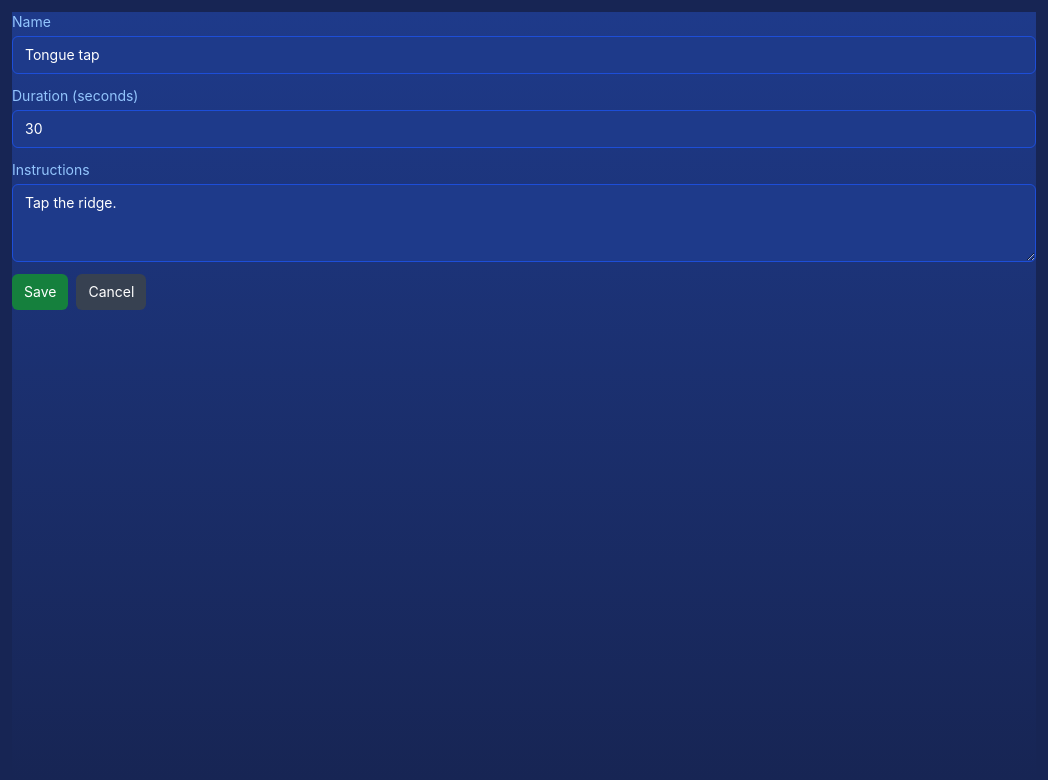
Scenario: EditExerciseForm › rejects an empty name
Clear the field labelled "Name" at (524, 55), box x1=12 y1=36 x2=1036 y2=74
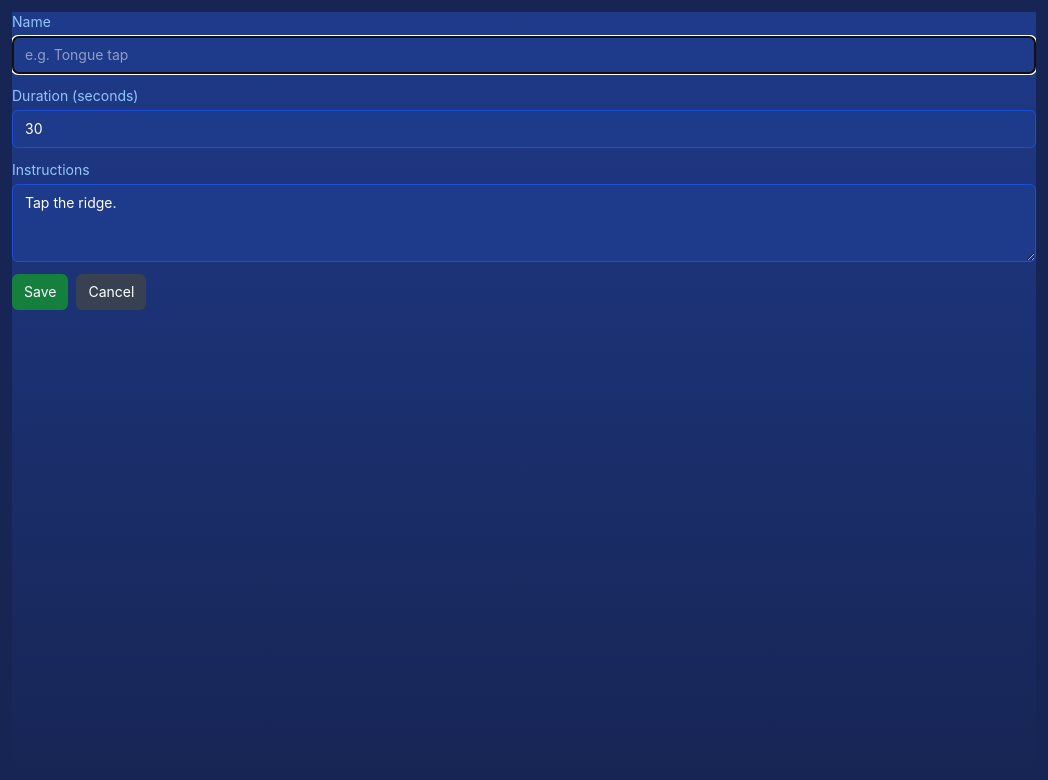
Click the button "Save" at (40, 292), box x1=12 y1=274 x2=68 y2=310
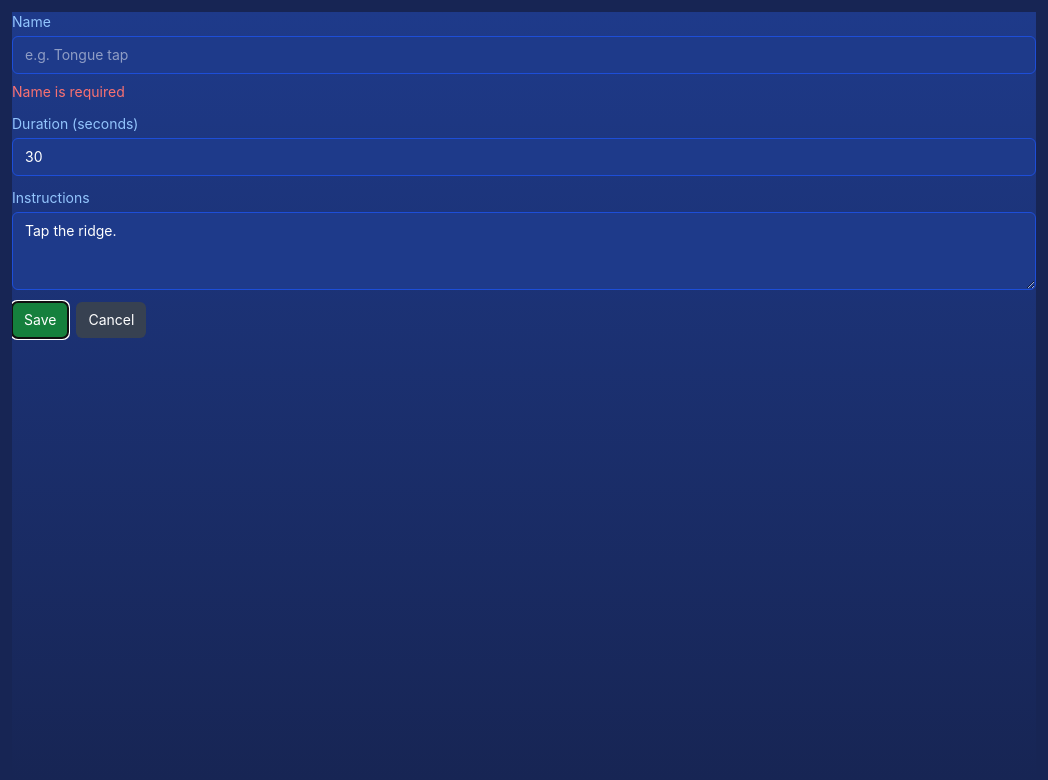
Expected: the message reads "Name is required", x1=12 y1=83 x2=125 y2=100
